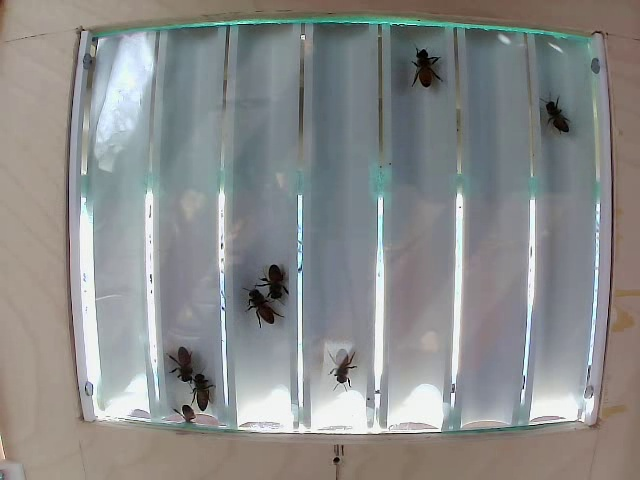bee: (410, 44, 460, 104), (533, 82, 568, 138), (262, 255, 302, 298), (240, 280, 277, 326), (163, 338, 198, 379), (320, 350, 357, 386), (186, 363, 217, 396)
